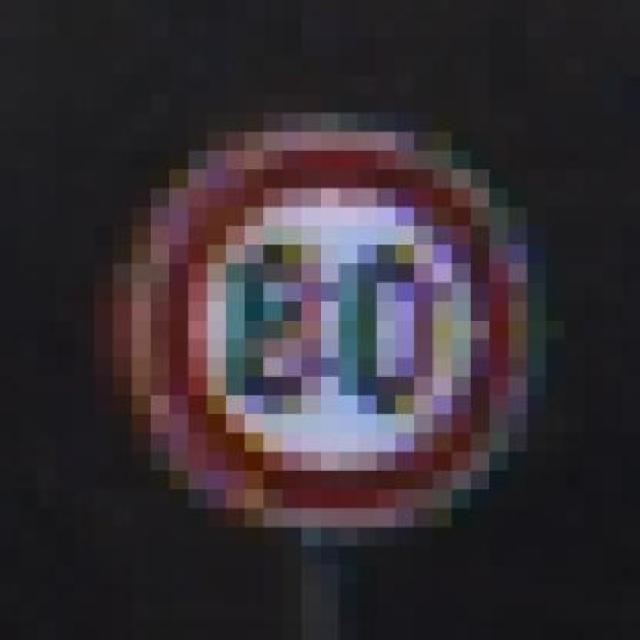forb_speed_over_80: (142, 139, 522, 521)
